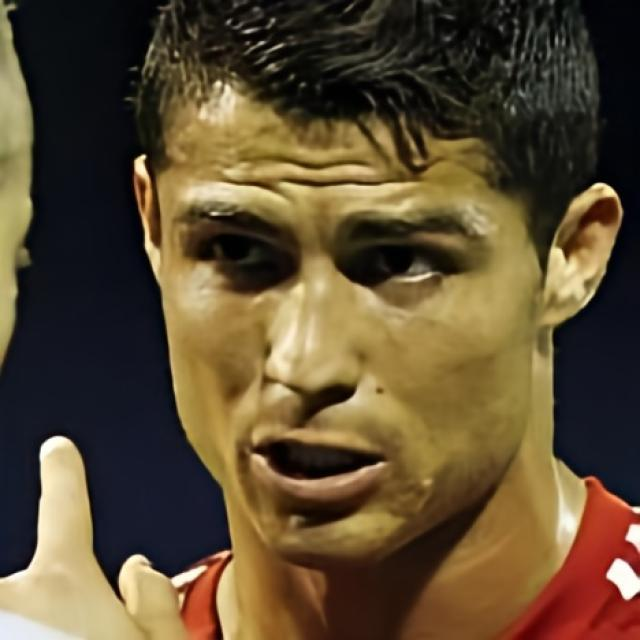disgust: (153, 61, 544, 576)
